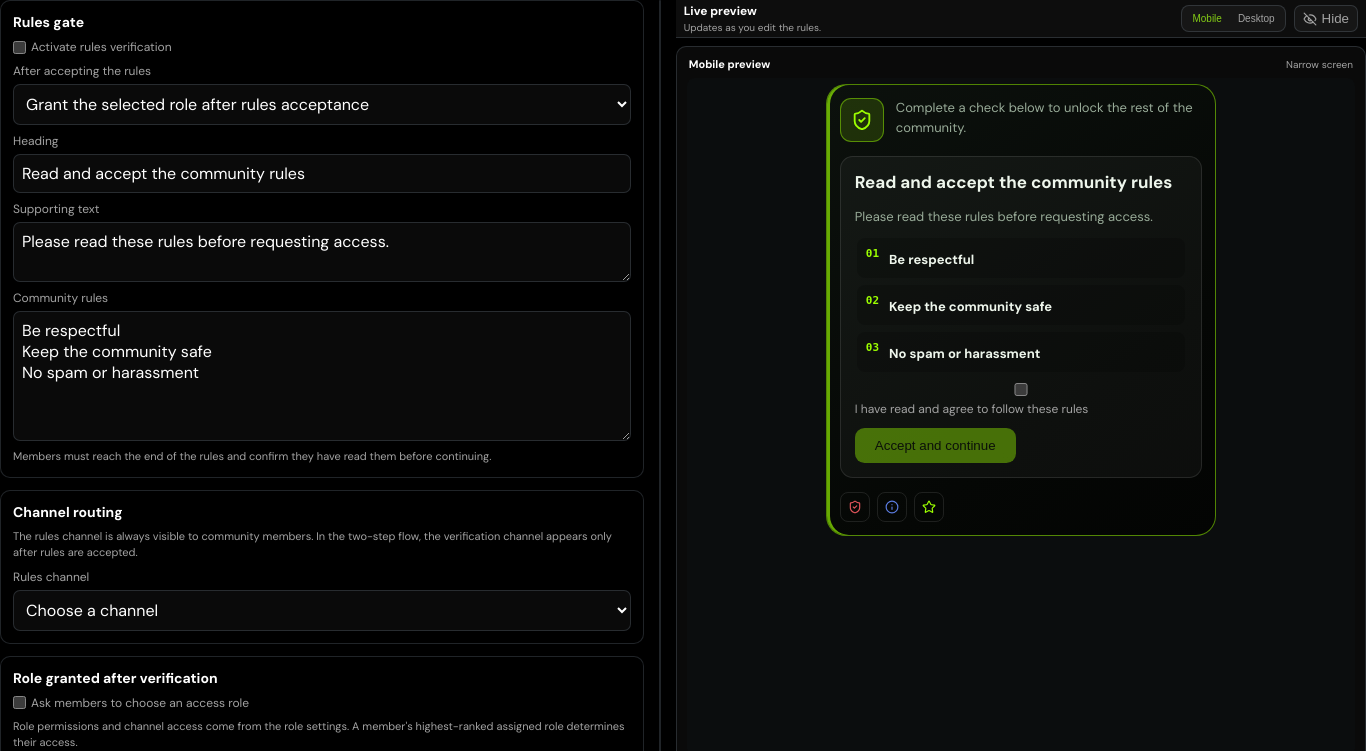
Test: RulesVerificationDashboard previews › allows the preview pane to be collapsed and restored
The width and height of the screenshot is (1366, 751).
Click the button with aria-label "Collapse preview". click: {"x": 1326, "y": 18}
box: [1294,5,1358,32]
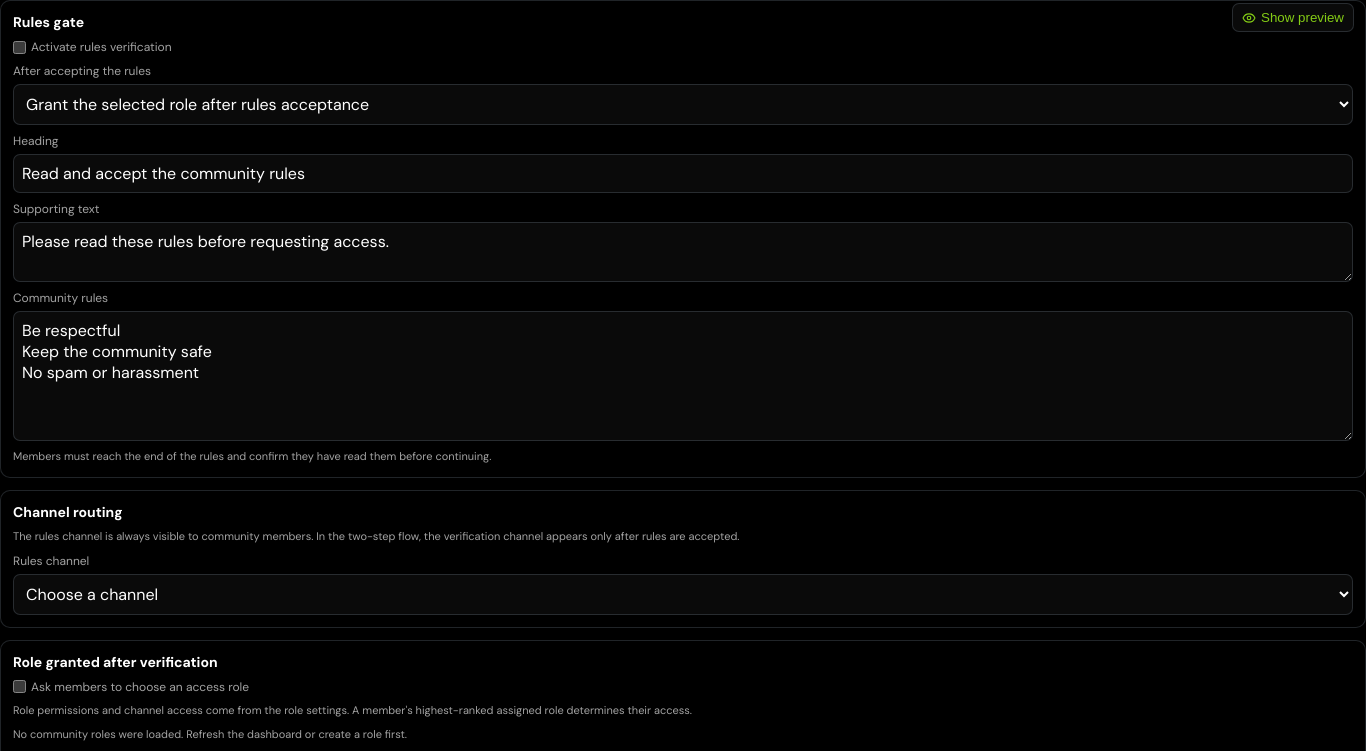
Expected: the text "Mobile preview" is gone
Click the button "Show preview". click: {"x": 1293, "y": 18}
box: [1232,3,1354,32]
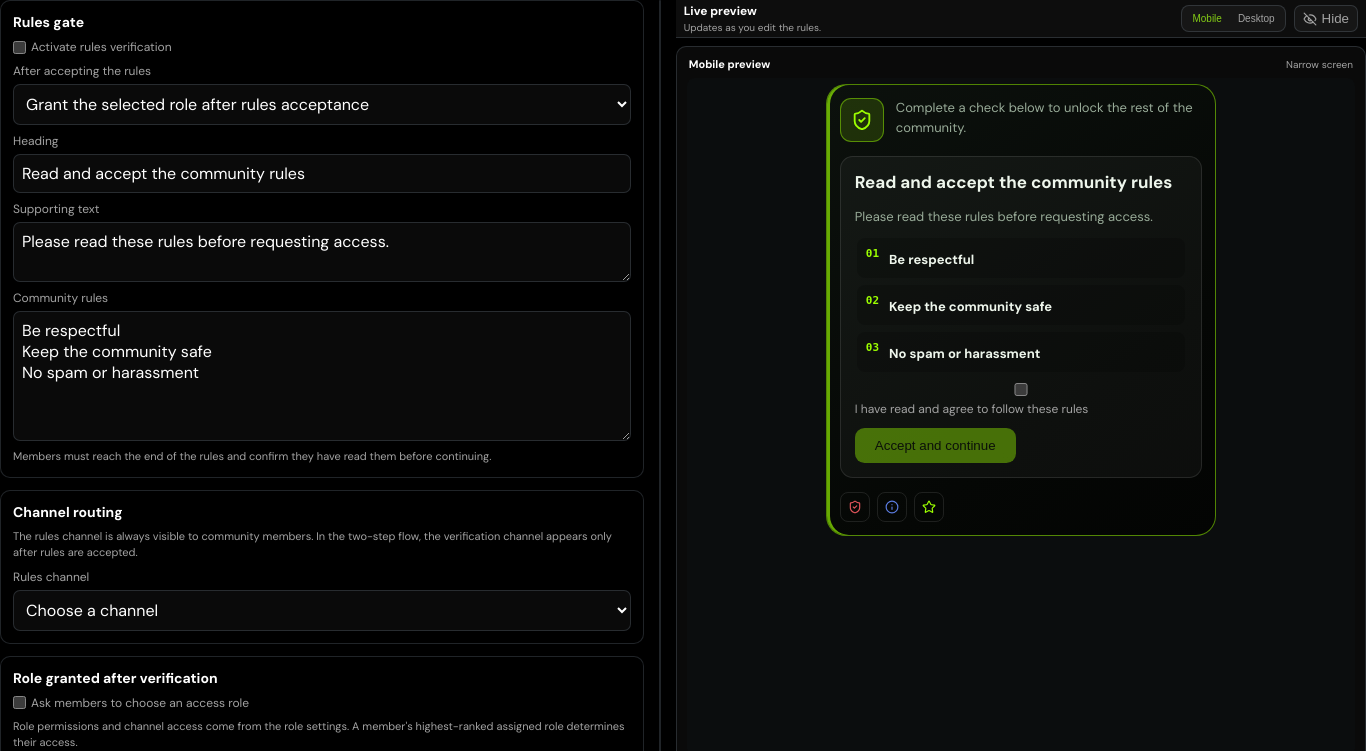
Expected: the text "Mobile preview" is shown, [689,57,770,71]
